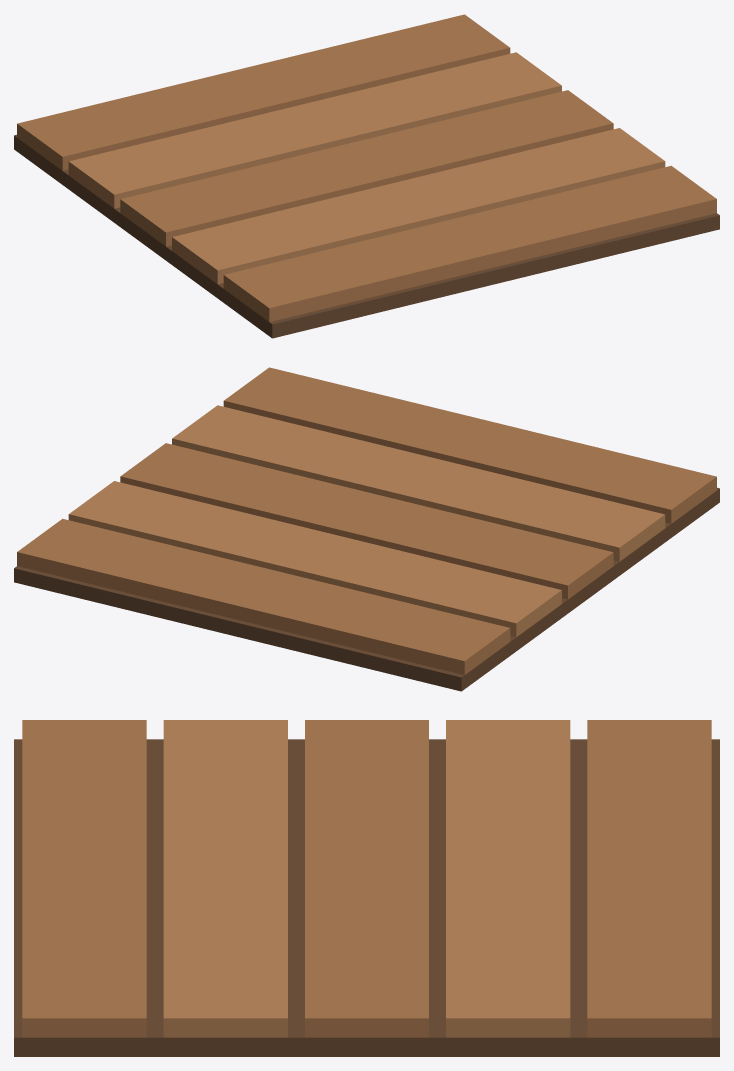
File: boden_deck_b.glb
The picture shows the model from 3 angles, top to bottom: view 1: azimuth 30°, elevation 25°; view 2: azimuth 150°, elevation 25°; view 3: azimuth 270°, elevation 25°; orthographic projection. The views are drawn at different scales.
Visible parts, largest first — view 1: boden_deck_b; view 2: boden_deck_b; view 3: boden_deck_b.
Boxes of the visible parts, bbox=[...] form: boden_deck_b: bbox=[14, 14, 719, 338]; boden_deck_b: bbox=[14, 367, 719, 691]; boden_deck_b: bbox=[14, 720, 719, 1056].
Bounding box in the file's own units: 1 × 0.06 × 1.
